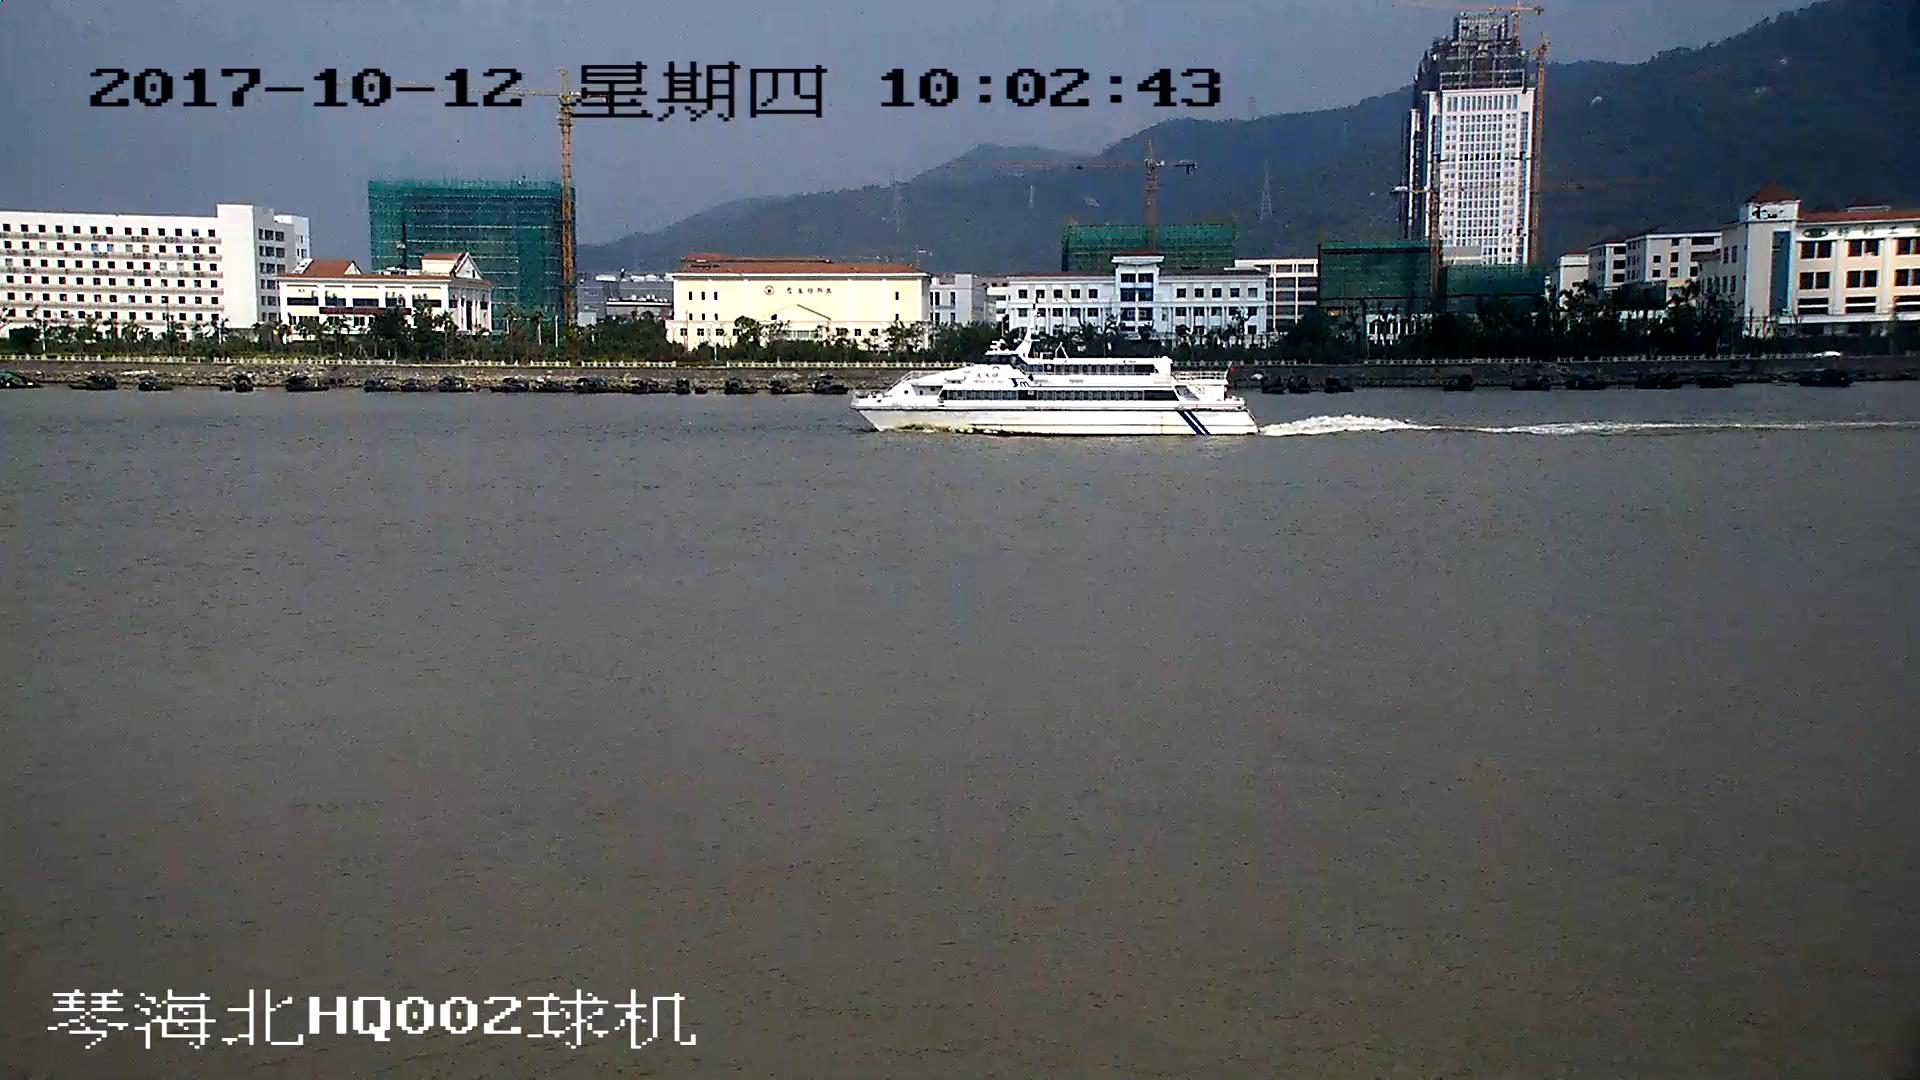passenger ship: (853, 306, 1264, 437)
